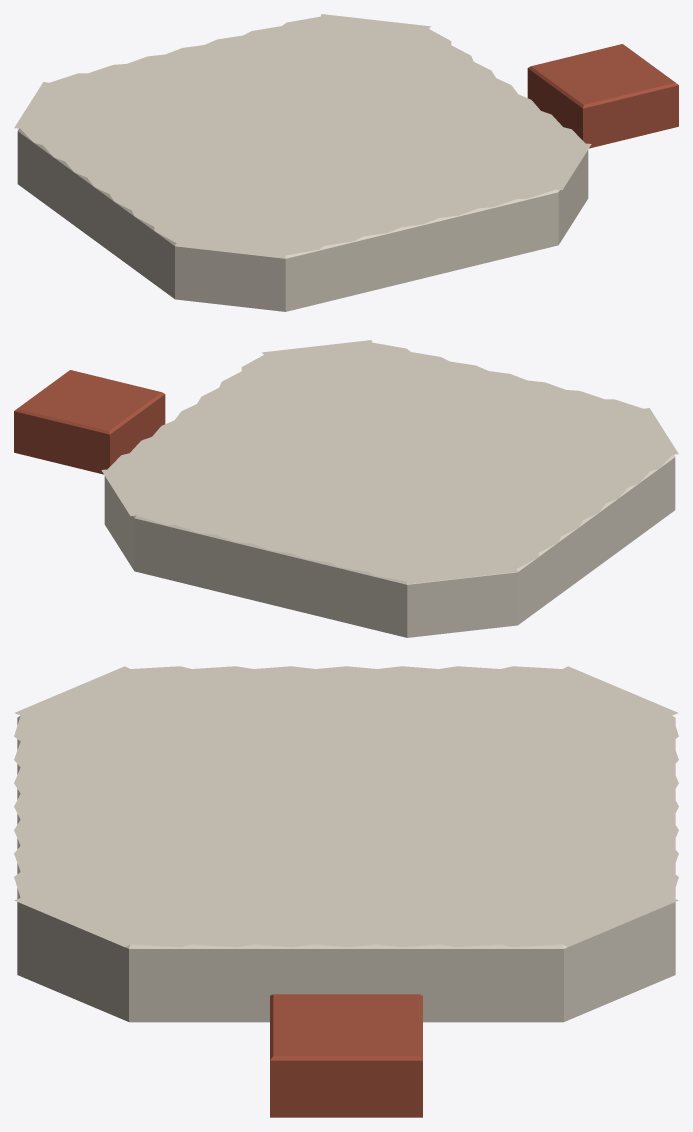
The model's file is mahsulot.glb.
The picture shows the model from 3 angles, top to bottom: view 1: azimuth 30°, elevation 25°; view 2: azimuth 150°, elevation 25°; view 3: azimuth 270°, elevation 25°; orthographic projection. The views are drawn at different scales.
Visible parts, largest first — view 1: mahsulot_A, mahsulot_B; view 2: mahsulot_A, mahsulot_B; view 3: mahsulot_A, mahsulot_B.
Part boxes in pixels (x1,y1,x2,y2): mahsulot_A: [14, 14, 591, 311]; mahsulot_B: [527, 44, 678, 148]; mahsulot_A: [101, 340, 678, 637]; mahsulot_B: [14, 370, 165, 474]; mahsulot_A: [14, 666, 678, 1022]; mahsulot_B: [270, 994, 422, 1117].
Bounding box in the file's own units: 0.4005 × 0.038 × 0.3.
